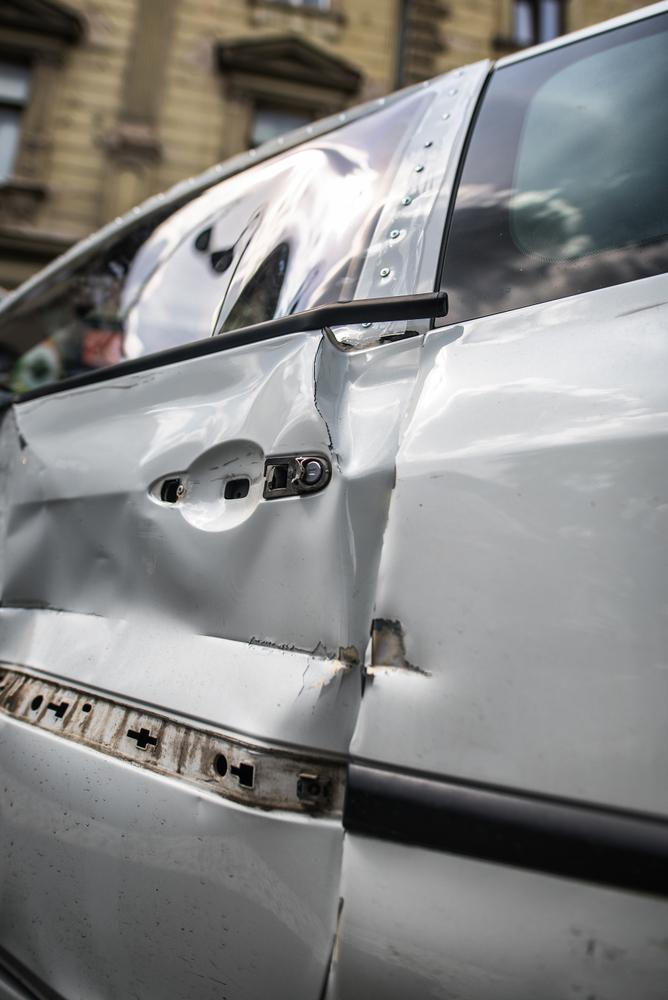dent: (0, 334, 354, 657), (216, 668, 353, 921), (364, 612, 430, 690)
